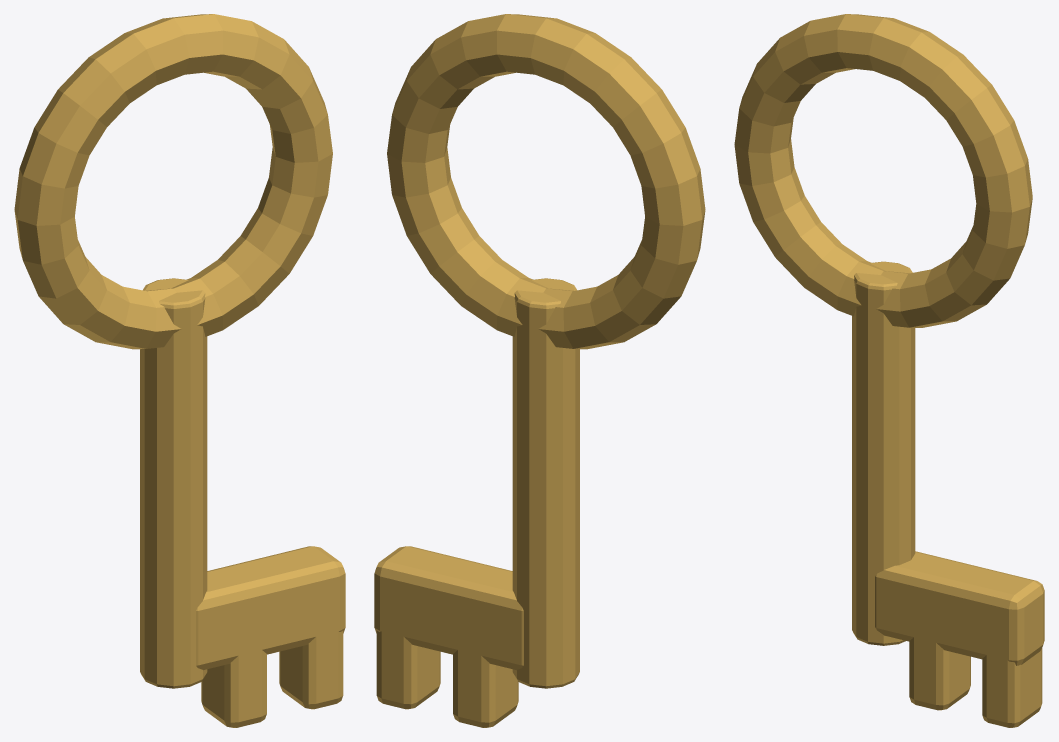
File: P014_skeleton_key.glb
3 views of the same model, side by side, from view 1: azimuth 30°, elevation 25°; view 2: azimuth 150°, elevation 25°; view 3: azimuth 330°, elevation 25° (orthographic). The views are drawn at different scales.
Parts seen in each view (by area): view 1: P014_bow_001, P014_shaft_002, P014_bit_003, P014_tooth_005, P014_tooth_004; view 2: P014_bow_001, P014_shaft_002, P014_bit_003, P014_tooth_005, P014_tooth_004; view 3: P014_bow_001, P014_shaft_002, P014_bit_003, P014_tooth_004, P014_tooth_005.
Part boxes in pixels (x1,y1,x2,y2): P014_bow_001: [14, 14, 332, 349]; P014_shaft_002: [140, 278, 207, 688]; P014_bit_003: [196, 546, 345, 670]; P014_tooth_005: [201, 638, 266, 727]; P014_tooth_004: [279, 619, 343, 709]; P014_bow_001: [387, 14, 705, 349]; P014_shaft_002: [512, 278, 579, 688]; P014_bit_003: [374, 546, 523, 670]; P014_tooth_005: [453, 638, 518, 727]; P014_tooth_004: [376, 619, 440, 709]; P014_bow_001: [734, 14, 1032, 327]; P014_shaft_002: [852, 261, 915, 645]; P014_bit_003: [875, 551, 1044, 665]; P014_tooth_004: [982, 648, 1042, 727]; P014_tooth_005: [909, 630, 970, 710].
Bounding box in the file's own units: 0.152 × 0.3275 × 0.028.
